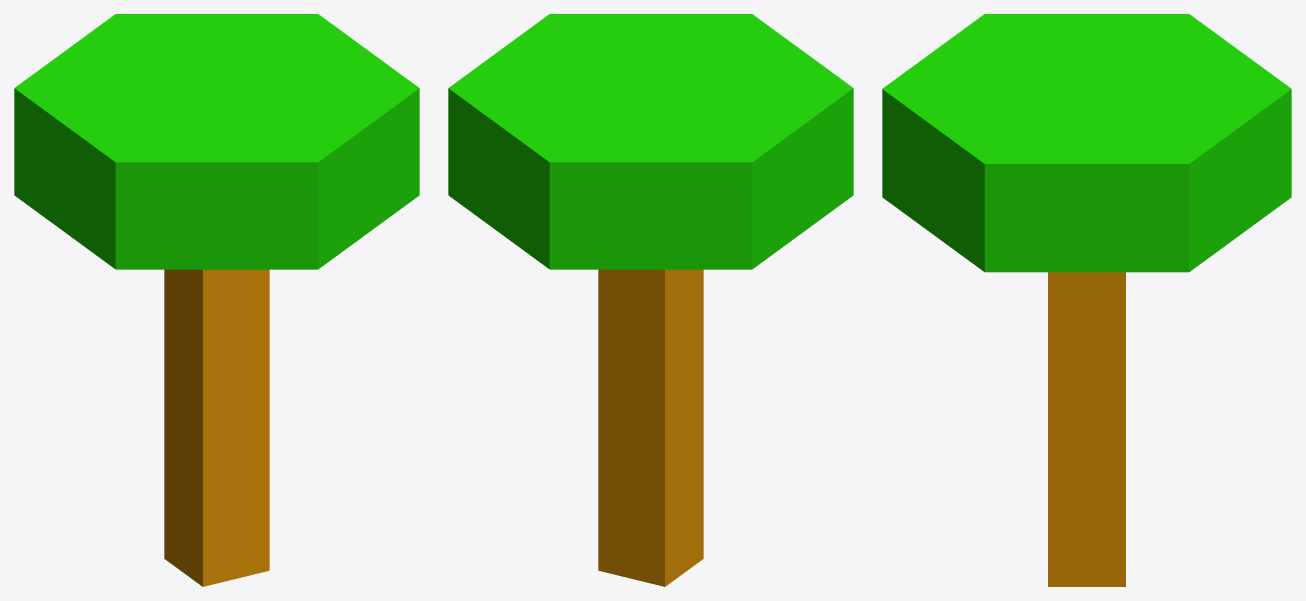
File: tree1.fbx
The picture shows the model from 3 angles, left to right: view 1: azimuth 30°, elevation 25°; view 2: azimuth 150°, elevation 25°; view 3: azimuth 270°, elevation 25°; orthographic projection.
Visible parts, largest first — view 1: Cube; view 2: Cube; view 3: Cube.
Part boxes in pixels (left/top/right/bottom): Cube: left=14, top=14, right=419, bottom=586; Cube: left=448, top=14, right=853, bottom=586; Cube: left=882, top=14, right=1291, bottom=586.
Size of the model in its own units: 254 by 380 by 293.
